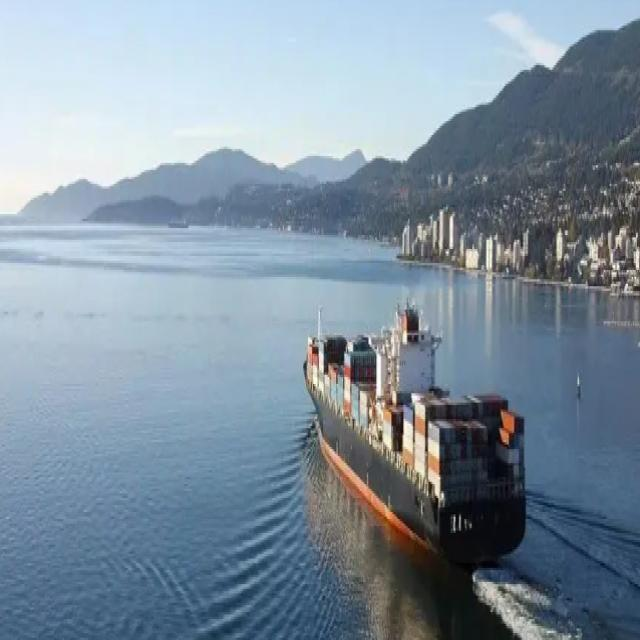cargoship: (304, 290, 526, 567)
